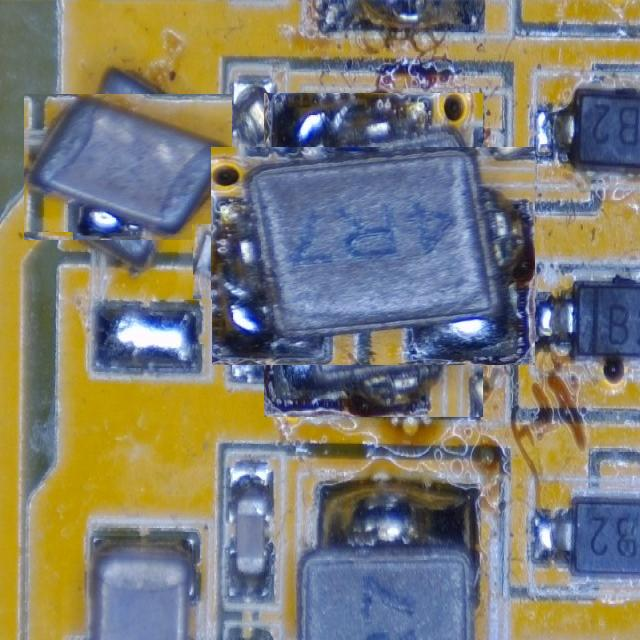Incorrect_installation: (212, 147, 535, 365), (25, 95, 231, 240), (193, 224, 267, 299)
